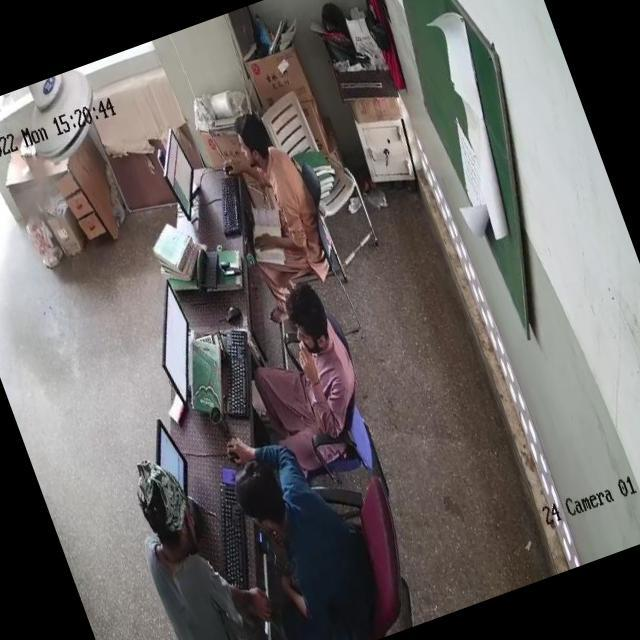person: (227, 416, 376, 628), (230, 277, 374, 468), (114, 453, 248, 640), (216, 105, 324, 287)
